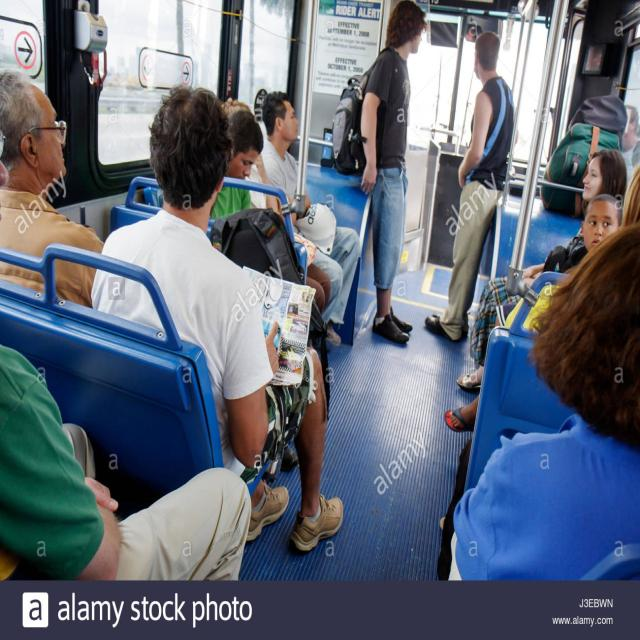body: (80, 78, 344, 558), (436, 217, 640, 582), (0, 335, 256, 580), (440, 189, 626, 436), (455, 147, 628, 392), (421, 28, 517, 348), (208, 108, 332, 319), (260, 91, 362, 346), (0, 70, 105, 308), (358, 0, 428, 347), (617, 97, 640, 217), (213, 95, 259, 118), (461, 20, 483, 41)
